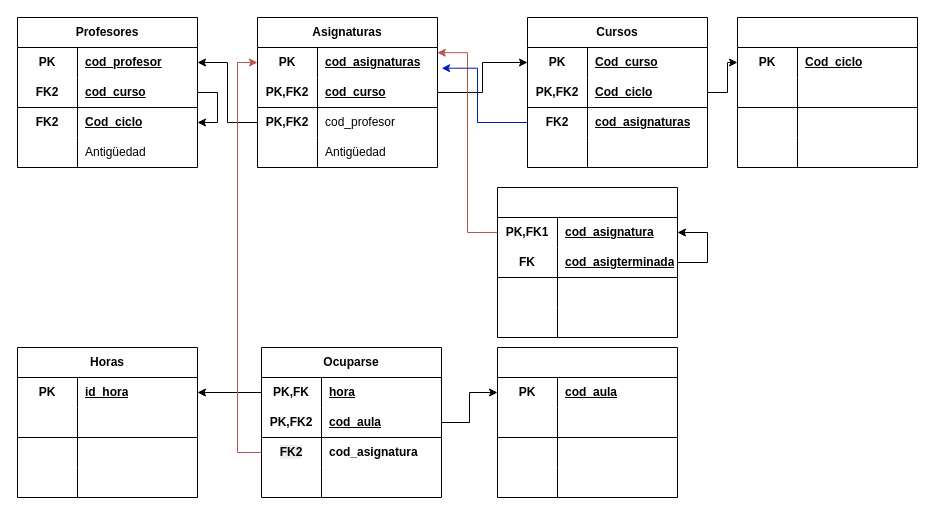
Image size: 935x515. Some labels were removed from this diagram. Each missing label, with the box of its shape:
Aulas: (496, 346, 678, 498)
Ciclos: (736, 16, 918, 168)
Requiere terminar: (496, 186, 678, 338)
